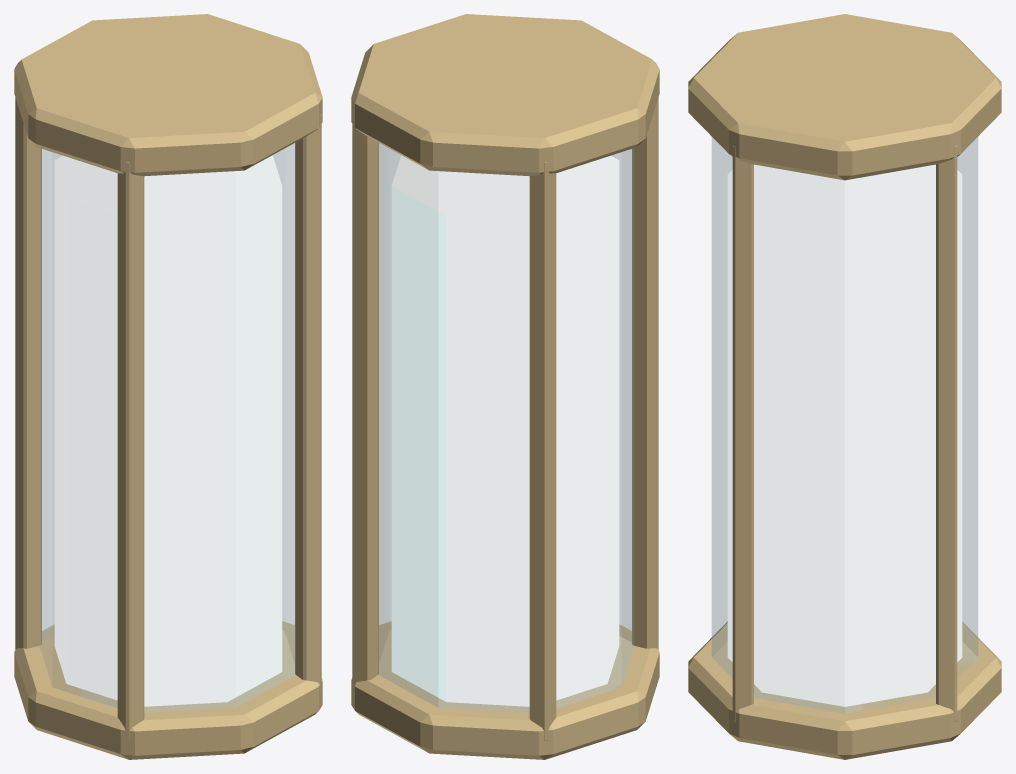
File: Tank.fbx
3 views of the same model, side by side, from view 1: azimuth 30°, elevation 25°; view 2: azimuth 150°, elevation 25°; view 3: azimuth 270°, elevation 25° (orthographic).
Parts seen in each view (by area): view 1: Tank, Liquid; view 2: Tank, Liquid; view 3: Tank, Liquid.
Boxes of the visible parts, bbox=[...] form: Tank: bbox=[14, 14, 322, 759]; Liquid: bbox=[54, 155, 282, 706]; Tank: bbox=[351, 14, 659, 759]; Liquid: bbox=[391, 155, 619, 706]; Tank: bbox=[688, 14, 1001, 759]; Liquid: bbox=[727, 164, 962, 706].
Size of the model in its own units: 0.5885 by 1.28 by 0.5885.
